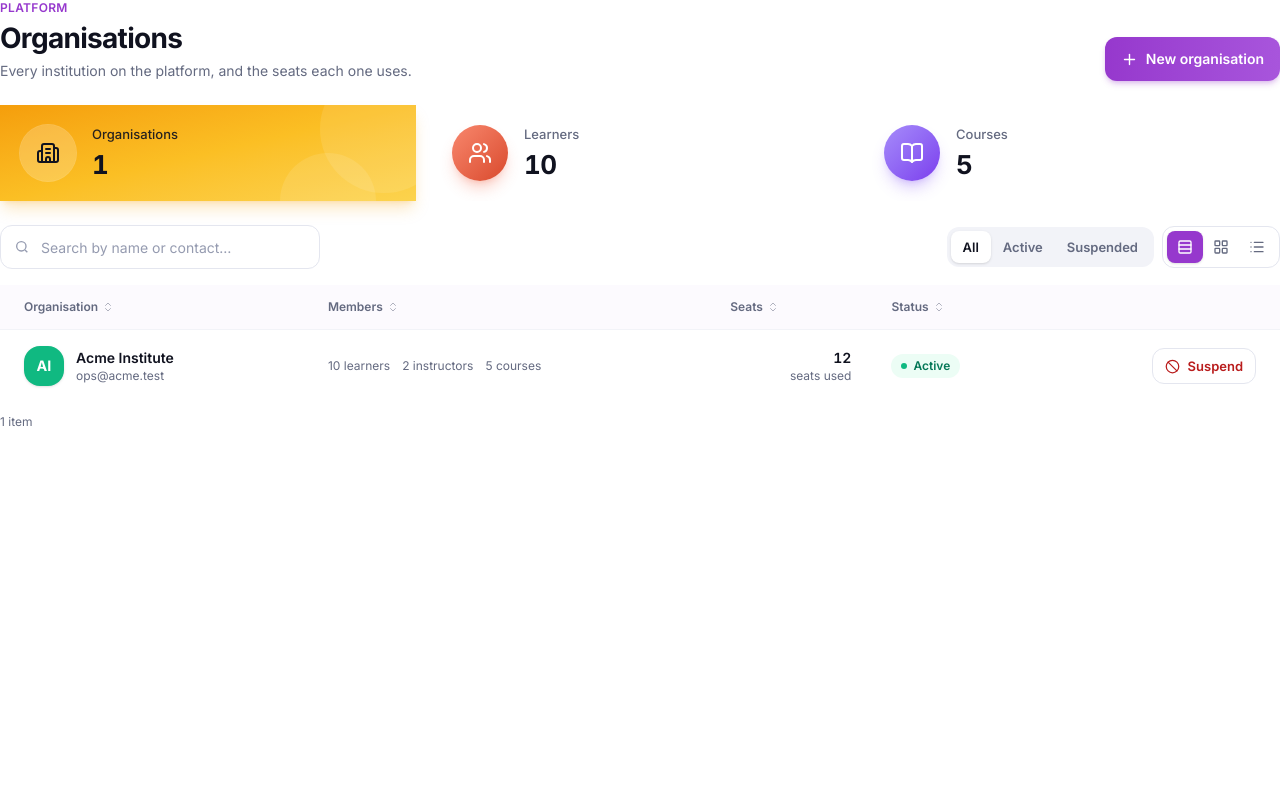
Test: OrganisationsPage: suspending › suspends rather than deletes
The image size is (1280, 800).
Expected: the link "Acme Institute" is shown, [76, 349, 174, 366]
Click the button "Suspend".
click(1204, 366)  # box [1152, 348, 1256, 384]
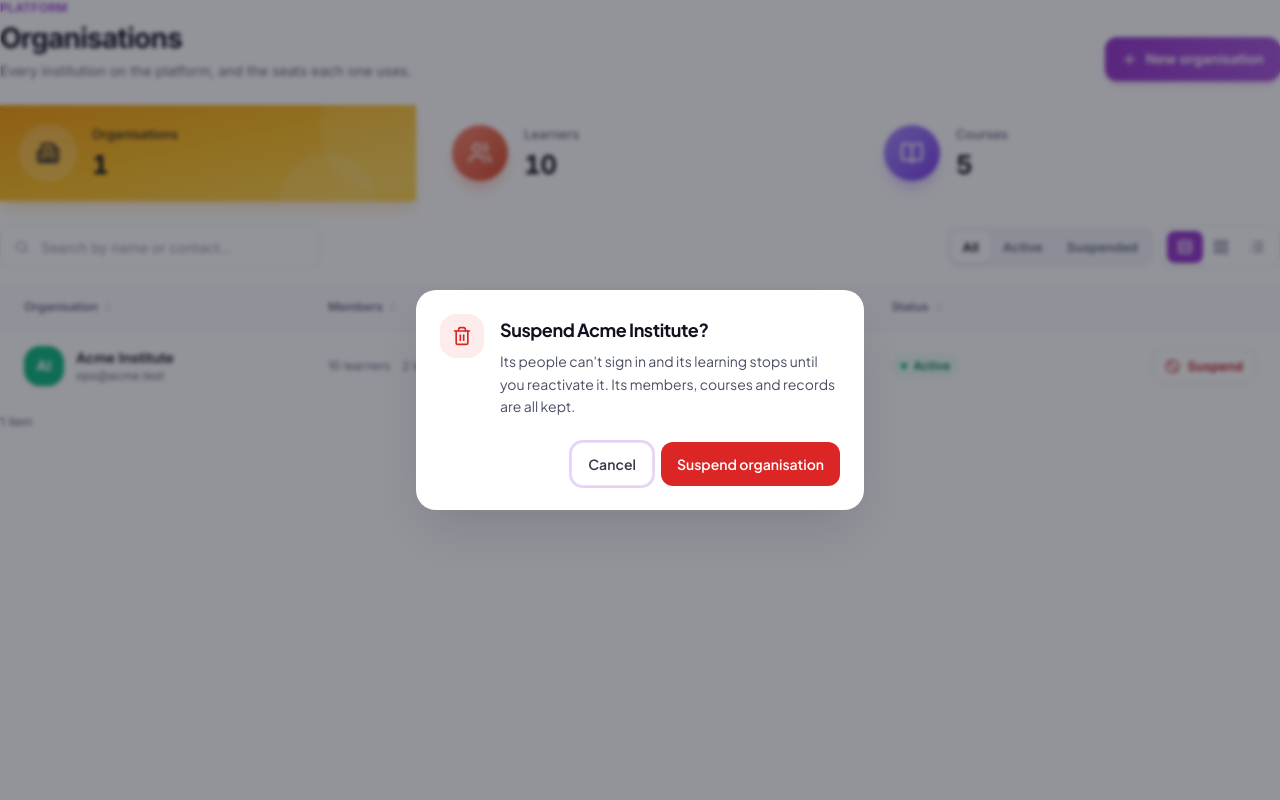
Click the button "Suspend organisation".
click(750, 464)  # box [661, 442, 840, 486]
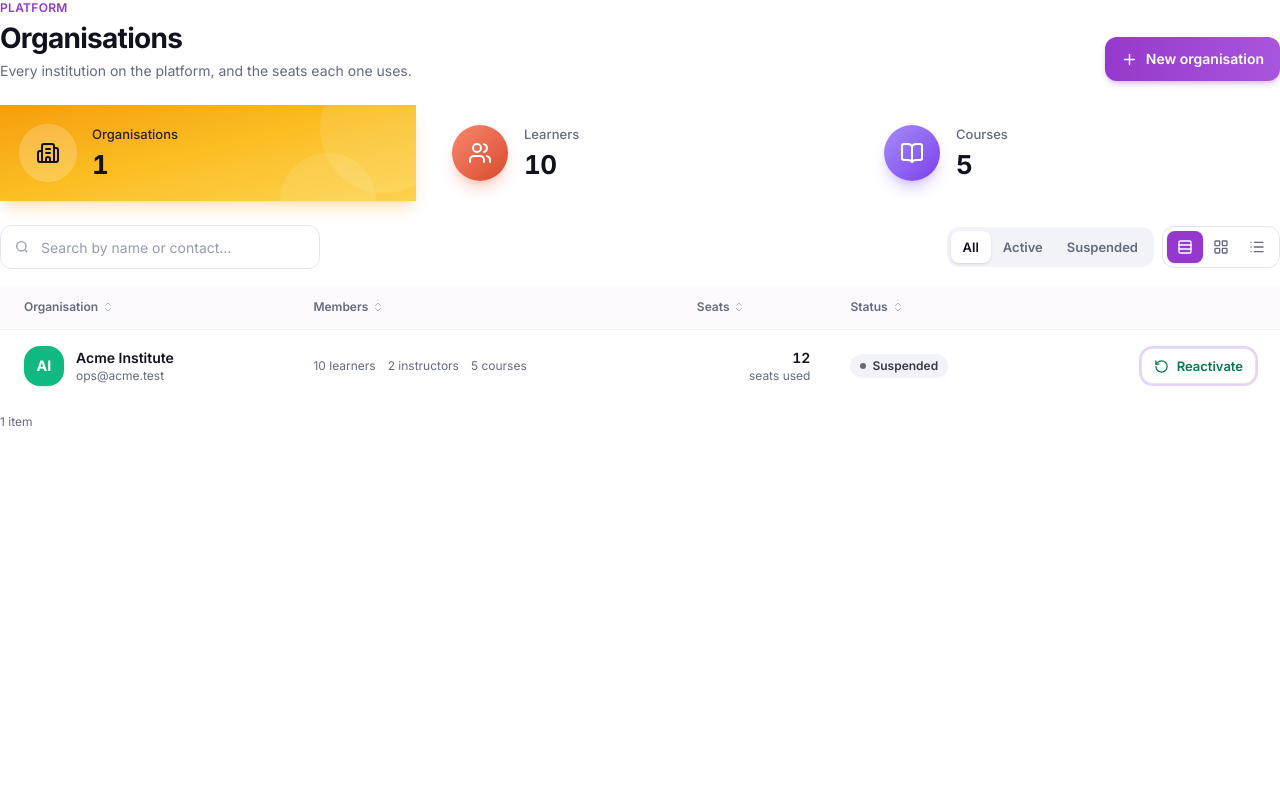
Expected: the button "Reactivate" is shown, [1141, 348, 1256, 384]
